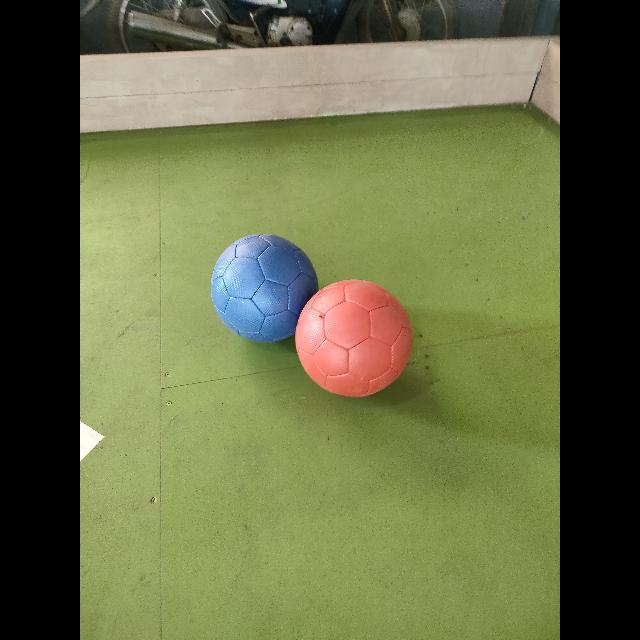B: (211, 234, 318, 342)
R: (295, 280, 412, 398)
